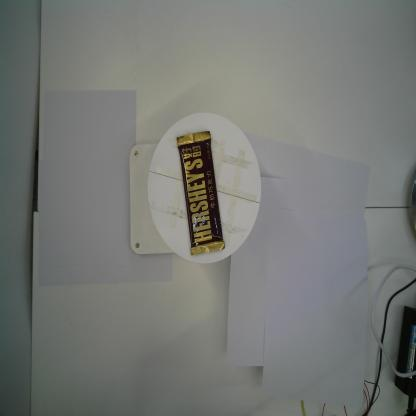Chocolate: (175, 130, 226, 258)
